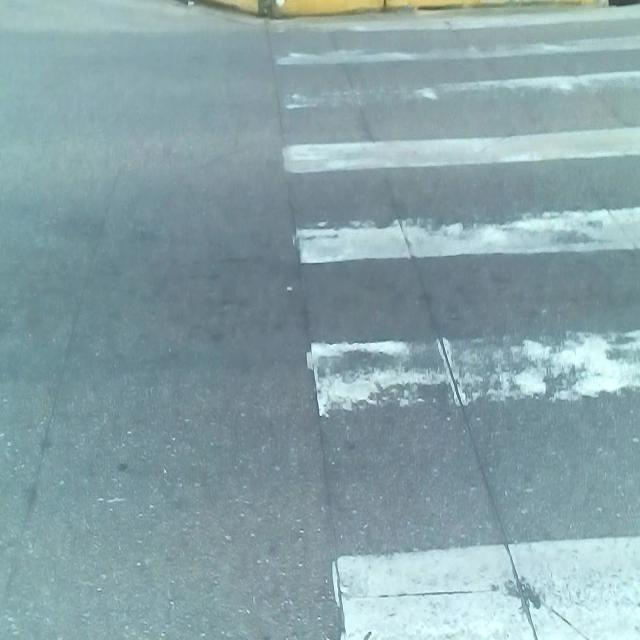crosswalk: (266, 5, 640, 640)
